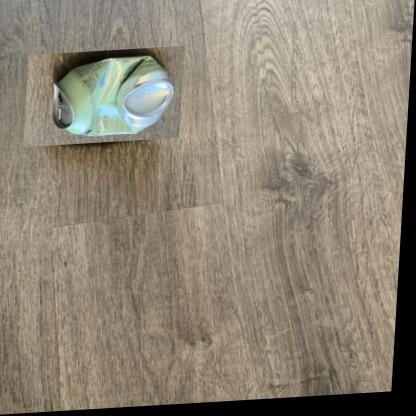trash: (53, 56, 173, 135)
